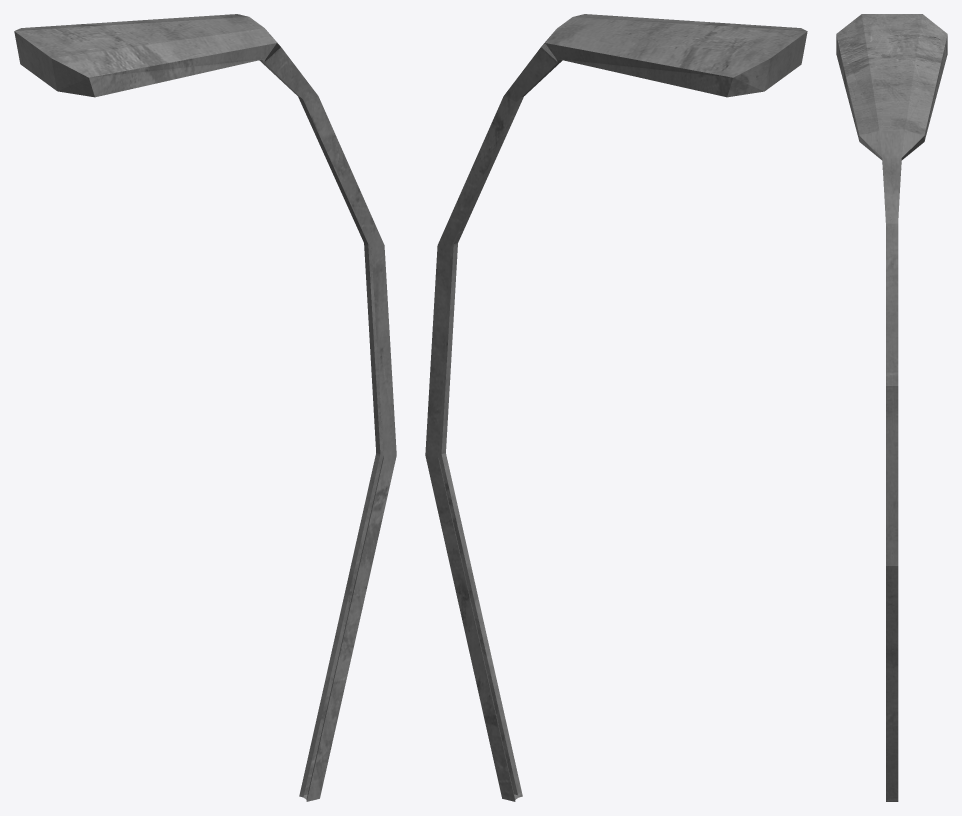
Rendered from future_lamp.dae.
The picture shows the model from 3 angles, left to right: view 1: azimuth 30°, elevation 25°; view 2: azimuth 150°, elevation 25°; view 3: azimuth 270°, elevation 25°; orthographic projection. The views are drawn at different scales.
Parts seen in each view (by area): view 1: FutureLamp; view 2: FutureLamp; view 3: FutureLamp.
Boxes of the visible parts, bbox=[...] form: FutureLamp: bbox=[14, 14, 396, 801]; FutureLamp: bbox=[425, 14, 807, 801]; FutureLamp: bbox=[836, 14, 947, 801].
Bounding box in the file's own units: 1.5 × 0.4901 × 3.27.
Materials: 1 (1 with a texture image).
